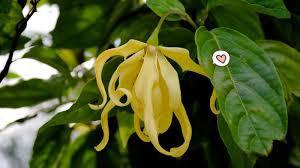ylang-ylang: (94, 30, 185, 157)
